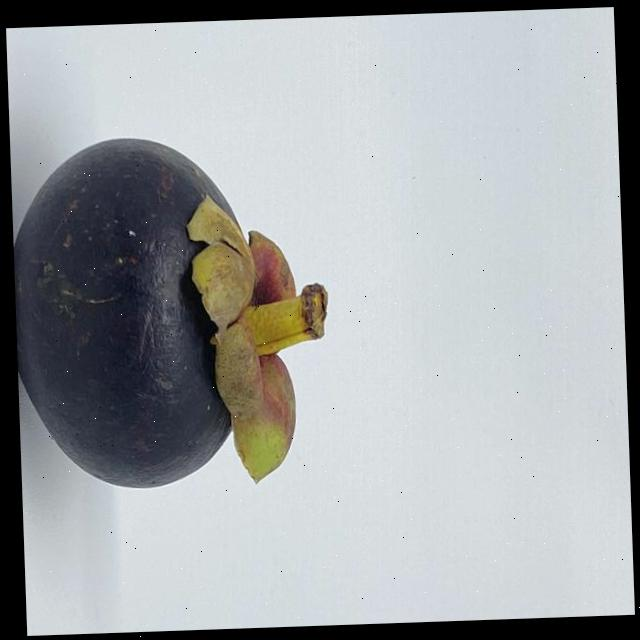mangosteen: (9, 124, 336, 516)
